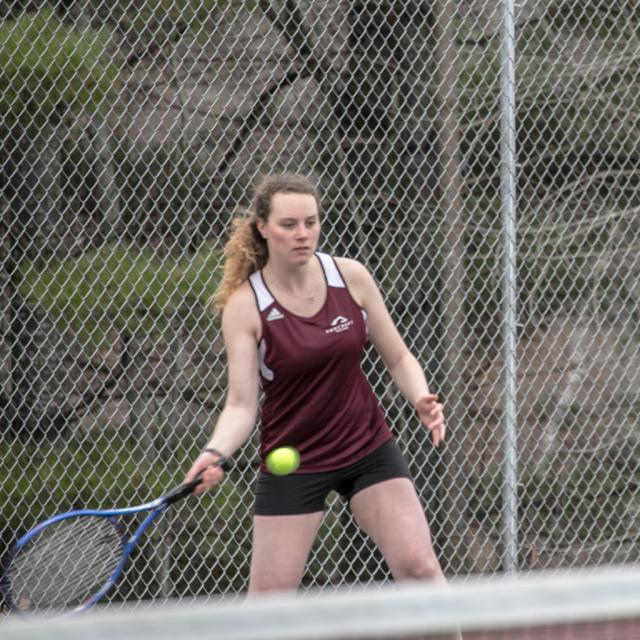Tennis ball: (267, 447, 298, 474)
